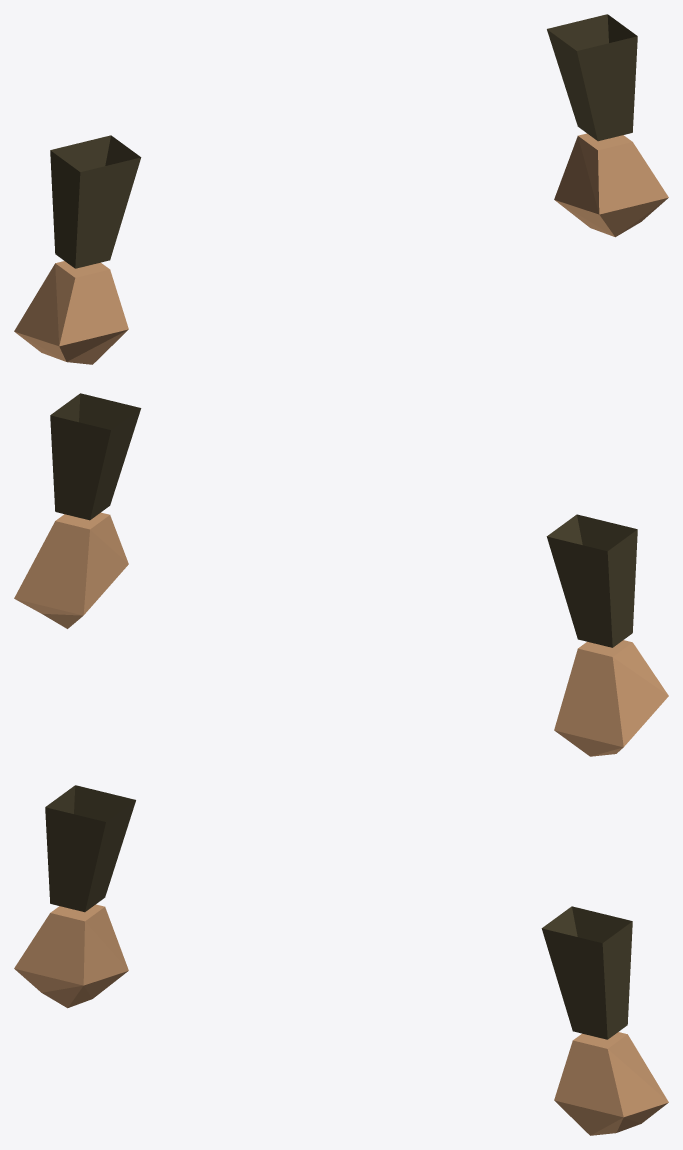
The model's file is itm_model0m_leather_vambraces.obj.
3 views of the same model, one above another, from view 1: azimuth 30°, elevation 25°; view 2: azimuth 150°, elevation 25°; view 3: azimuth 330°, elevation 25° (orthographic).
Bounding box in the file's own units: 0.5469 × 0.1797 × 0.0703.
